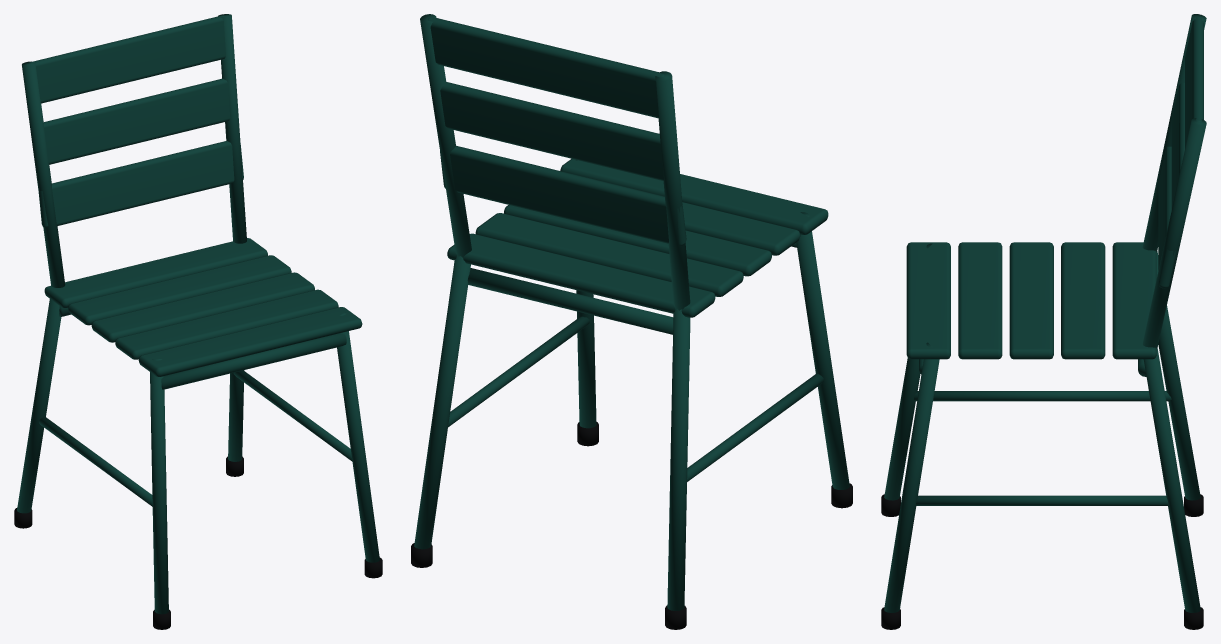
The model's file is chaise-terrasse.glb.
3 views of the same model, side by side, from view 1: azimuth 30°, elevation 25°; view 2: azimuth 150°, elevation 25°; view 3: azimuth 270°, elevation 25° (orthographic). The views are drawn at different scales.
Visible parts, largest first — view 1: chaise-terrasse; view 2: chaise-terrasse; view 3: chaise-terrasse.
Boxes of the visible parts, x1,y1,x2,y2 form: chaise-terrasse: (14, 14, 382, 629); chaise-terrasse: (411, 14, 852, 629); chaise-terrasse: (881, 14, 1206, 629).
Size of the model in its own units: 0.44 by 0.8493 by 0.4996.
1 material, 1 textured.
